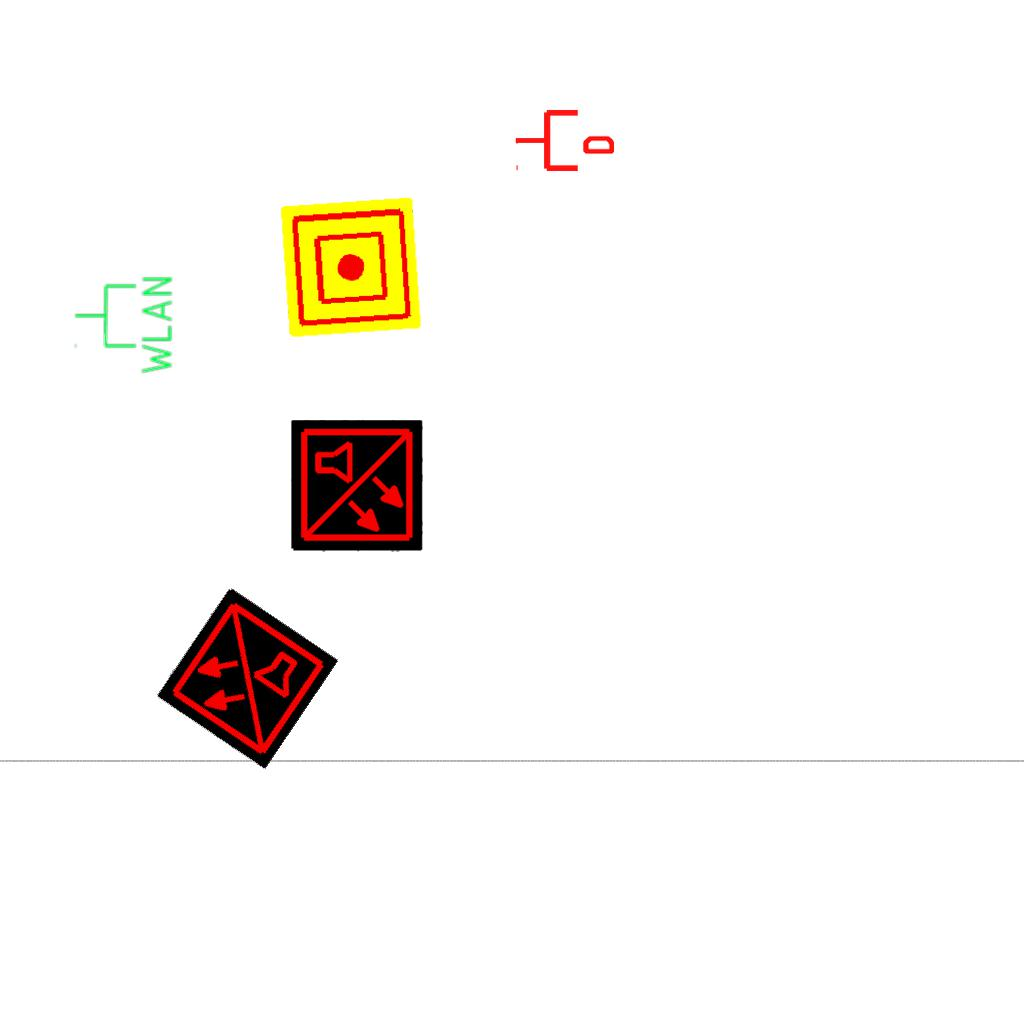Datenanschluss_einfach: (514, 106, 614, 175)
NAM-Nichtautomatischer_Melder: (280, 196, 422, 338)
OKW_Multisensormelder_(Kombination_optischer_Rauch-Kahlenmonoxid_Waerme-Melder): (155, 586, 339, 770), (291, 420, 423, 552)
WLAN: (72, 273, 176, 378)
